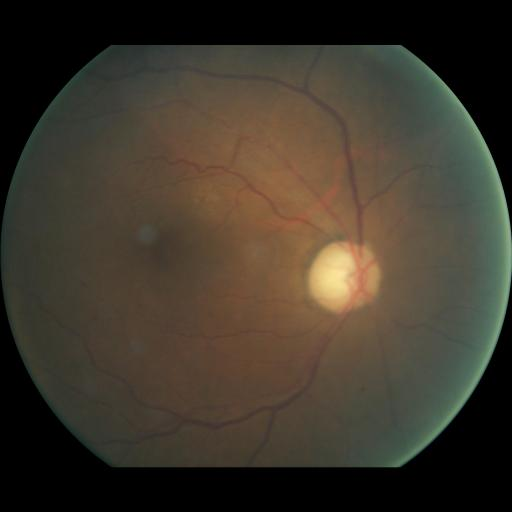Optic Cup: (315, 252, 362, 299)
Optic Disc: (307, 240, 380, 315)
